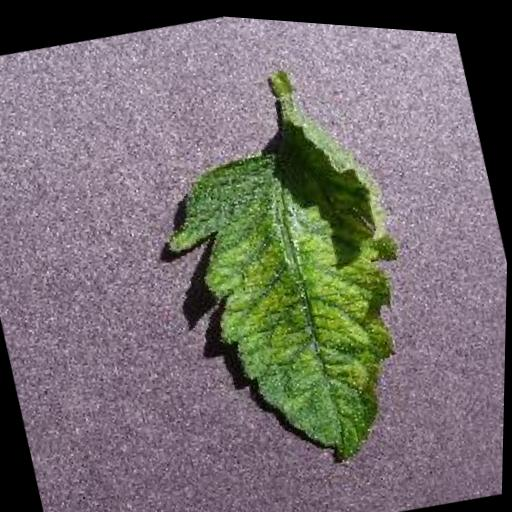Mosaic Virus: (142, 88, 456, 497)
